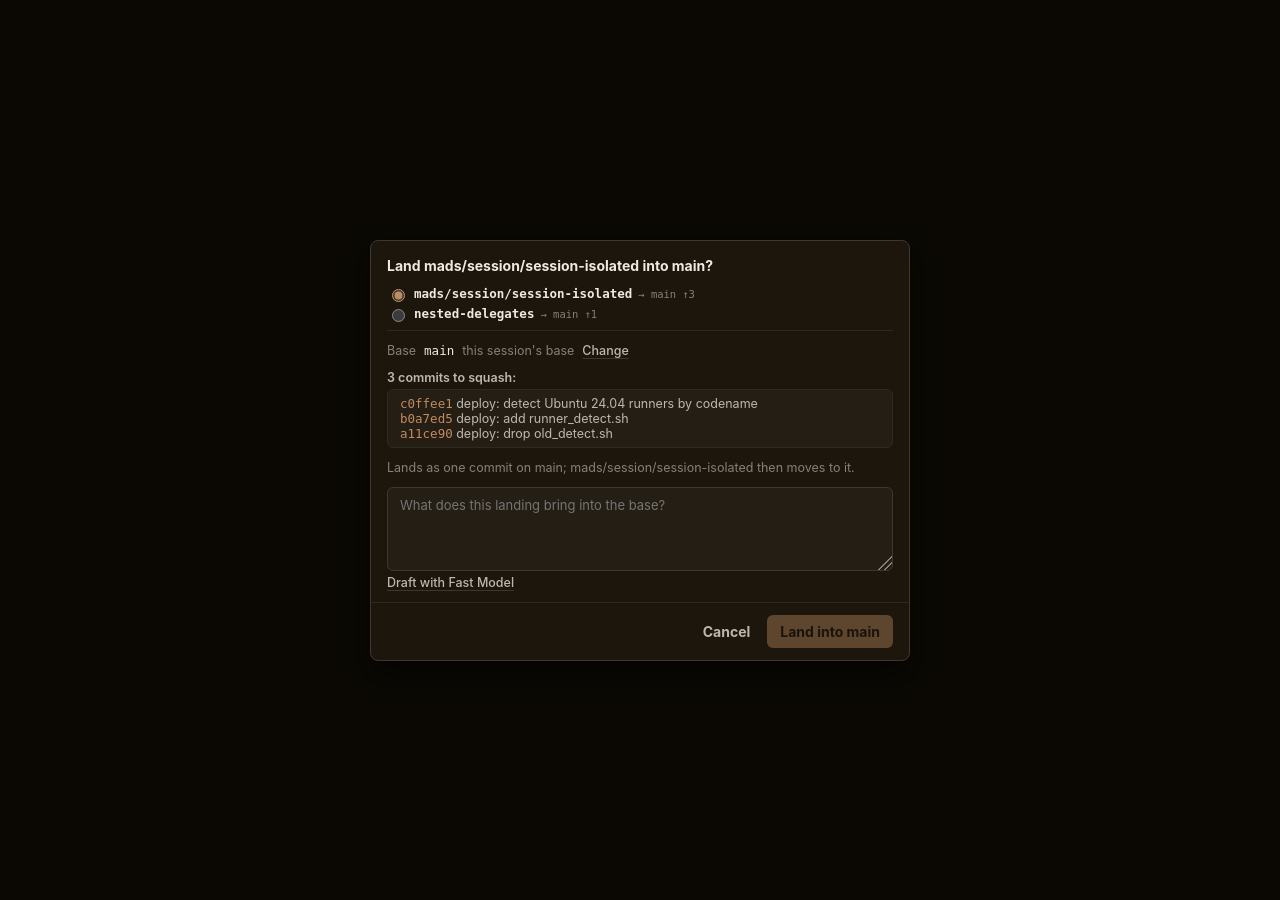
Test case: LandDialog (COMMIT-LAND-PUSH D12) › with more than one branch to land › picks one branch at a time, the session's own first
Later steps or results of the test are not shown.
Expected: the element named "Branch to land" reads "mads/session/session-isolated → main ↑3 nested-delegates → main ↑1", top-left (387, 286), bottom-right (893, 330)
Expected: the radio button labelled "mads/session/session-isolated → main ↑3" is checked, top-left (392, 288), bottom-right (405, 302)
Type "written for the first" into the text box named "Landing message". click: (640, 528)
box: top-left (387, 486), bottom-right (893, 570)
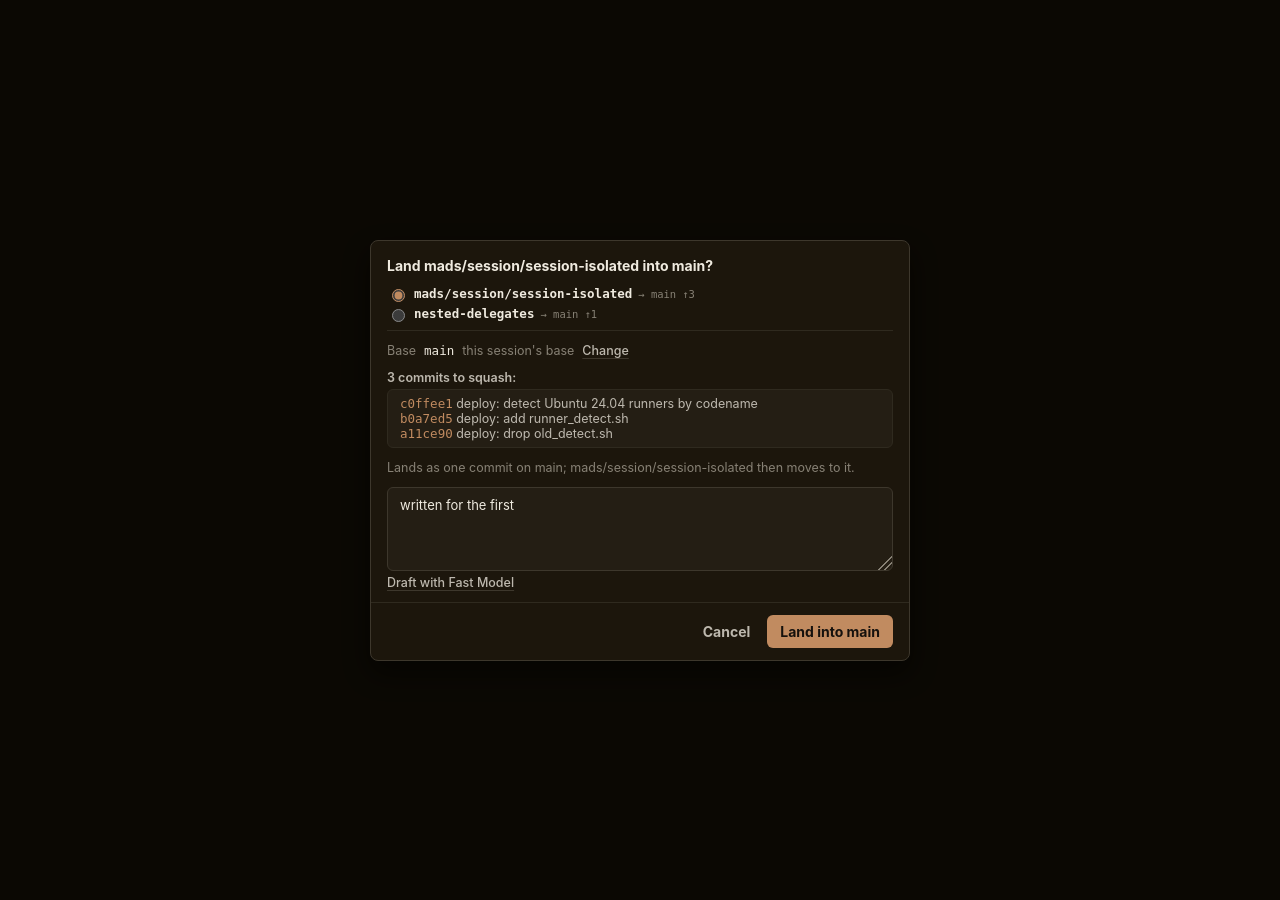
Click the radio button labelled "nested-delegates → main ↑1". click: (398, 315)
box: top-left (392, 308), bottom-right (405, 322)
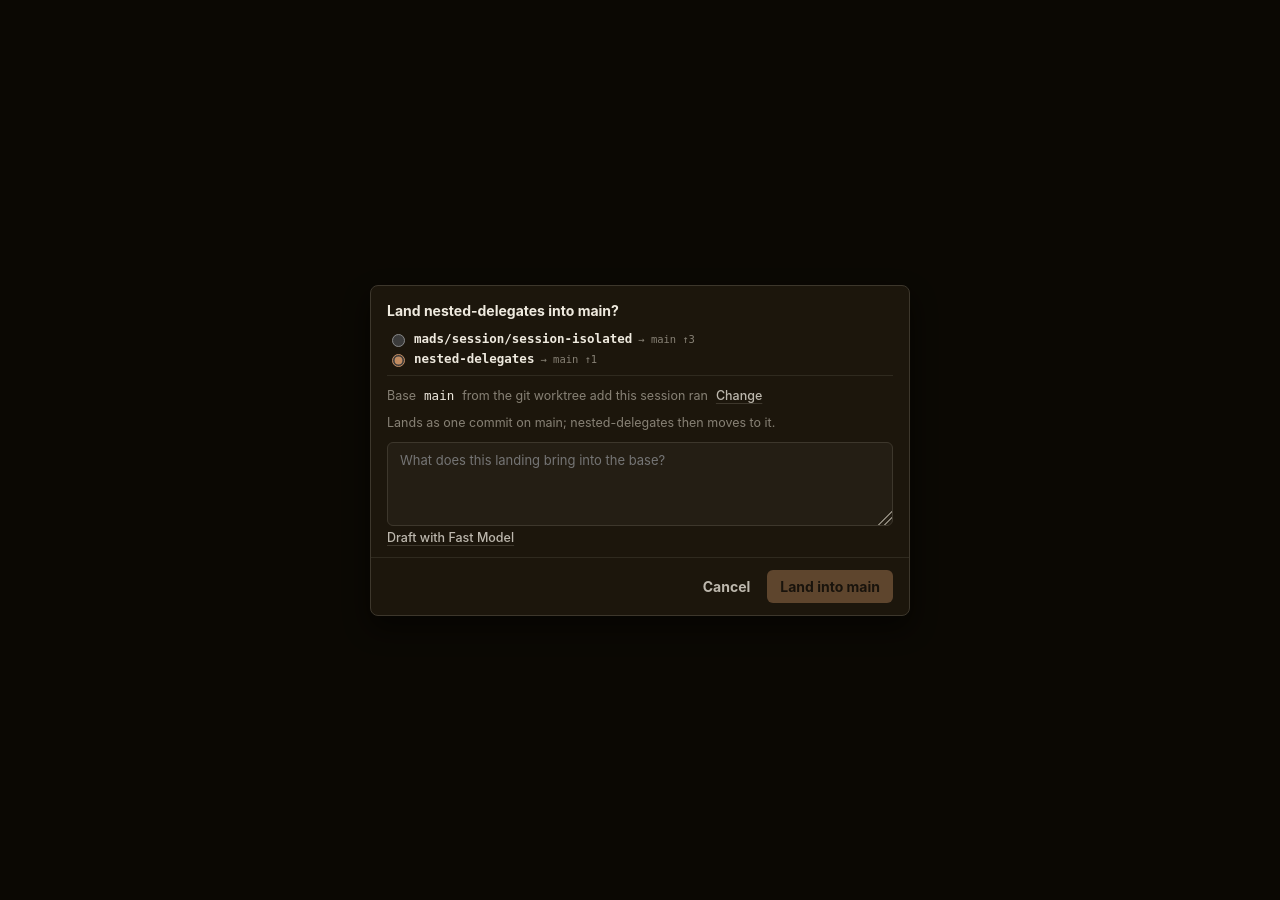
Now the element with test id "land-base" shows "from the git worktree add this session ran", box top-left (462, 388), bottom-right (708, 402)
Now the text box named "Landing message" is empty, box top-left (387, 442), bottom-right (893, 526)
